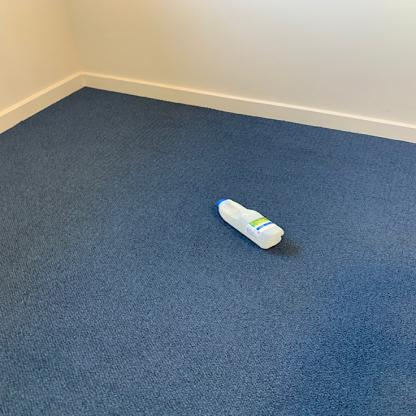trash: (215, 195, 287, 254)
